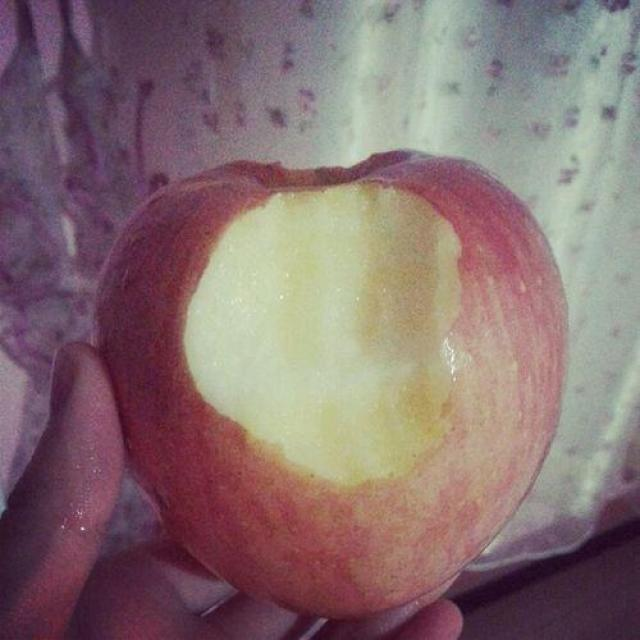Rotten: (95, 139, 574, 616)
